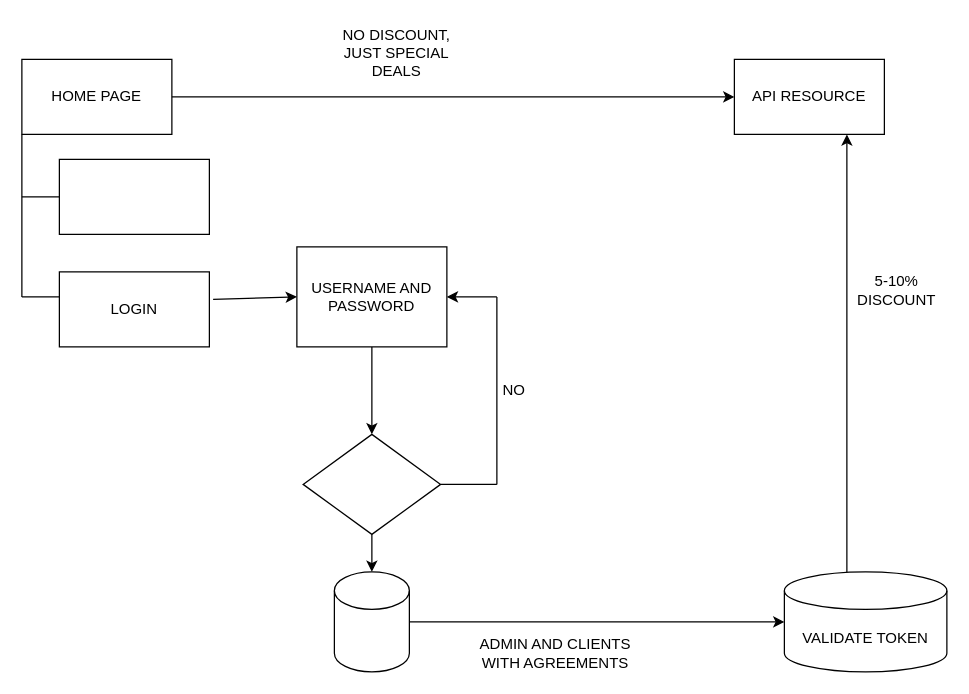
Some shapes in this 969 by 694 pixel diagram are drawn without their labels. The box of each missing label's shape, as (x1, y1, x2, y2) in pixels:
AUTHENTICATION: (302, 433, 441, 534)
CREATE TOKEN: (333, 571, 409, 672)
SPECIAL DEALS: (58, 158, 209, 234)
